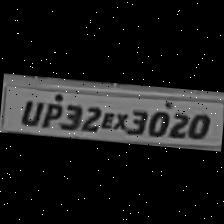0: (184, 108, 212, 139), (144, 105, 170, 138)
2: (77, 100, 102, 134), (166, 106, 188, 139)
3: (122, 104, 146, 138), (58, 99, 81, 132)
P: (38, 98, 60, 129)
U: (16, 96, 41, 127)
